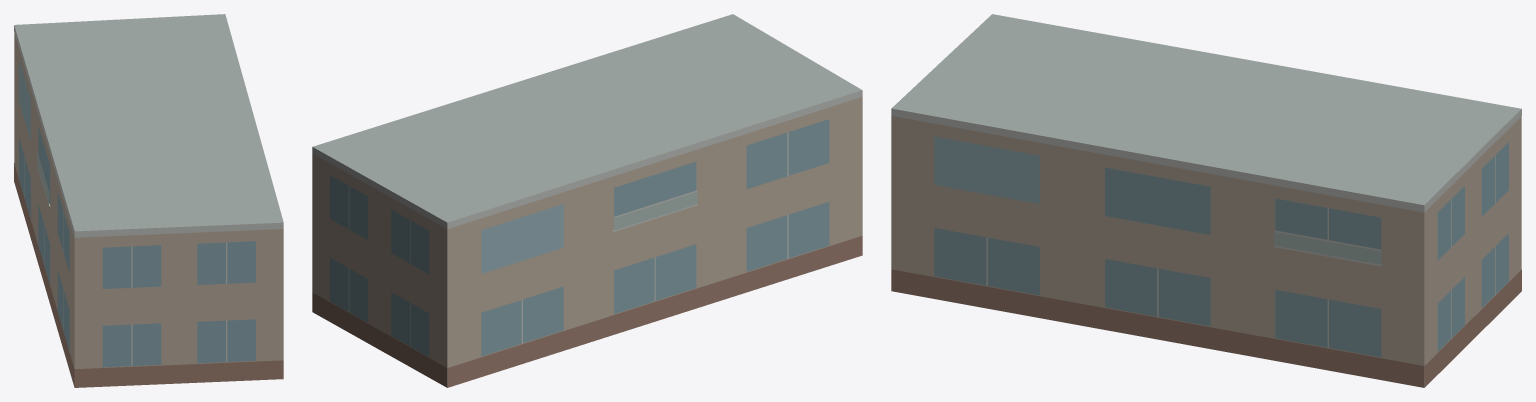
File: survey-upis-32522685.glb
The picture shows the model from 3 angles, left to right: view 1: azimuth 30°, elevation 25°; view 2: azimuth 150°, elevation 25°; view 3: azimuth 270°, elevation 25°; orthographic projection. The views are drawn at different scales.
Parts seen in each view (by area): view 1: survey-upis-32522685.tmp; view 2: survey-upis-32522685.tmp; view 3: survey-upis-32522685.tmp.
Boxes of the visible parts, left/top/right/bottom form: survey-upis-32522685.tmp: left=14, top=14, right=283, bottom=387; survey-upis-32522685.tmp: left=312, top=14, right=862, bottom=387; survey-upis-32522685.tmp: left=891, top=14, right=1521, bottom=387.
Bounding box in the file's own units: 13.71 × 6.1 × 19.1.
